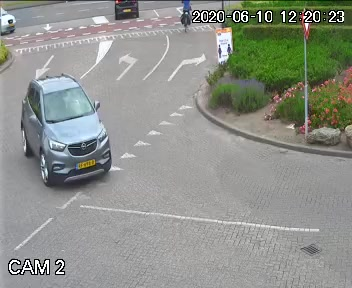car: (7, 69, 109, 190), (111, 0, 140, 20)
